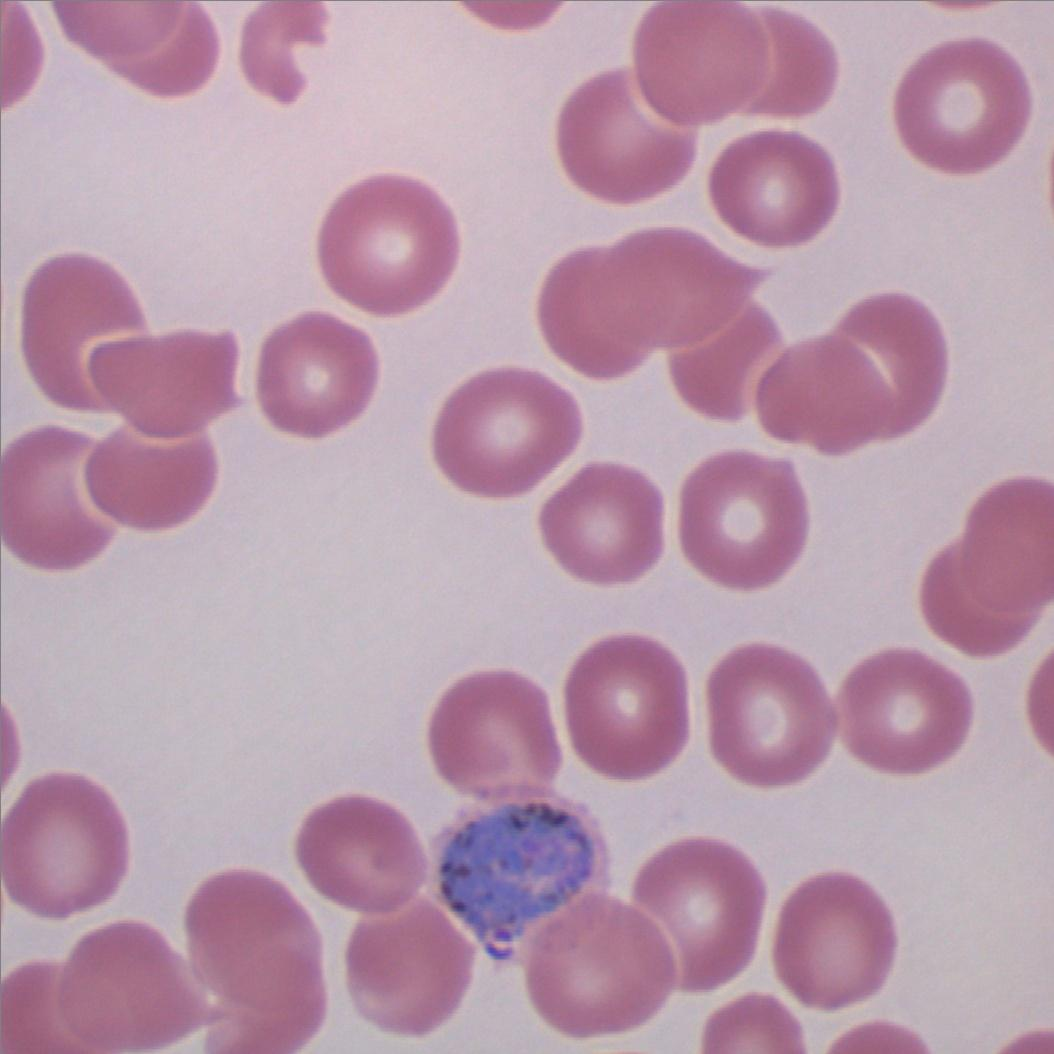Infected: (432, 798, 622, 961)
Uninfected: (757, 292, 946, 454), (182, 871, 327, 1052), (590, 228, 779, 355), (923, 476, 1054, 655), (20, 251, 149, 418), (314, 173, 459, 320), (525, 895, 676, 1034), (54, 922, 214, 1051), (632, 837, 762, 989), (0, 774, 129, 920), (437, 368, 584, 495), (703, 643, 834, 785), (557, 71, 695, 204), (563, 635, 689, 779), (894, 38, 1030, 171), (677, 451, 808, 588), (634, 1, 776, 126), (343, 900, 471, 1038), (85, 329, 243, 436), (0, 426, 118, 568), (51, 2, 223, 99), (772, 873, 893, 1010), (426, 672, 559, 795), (839, 648, 966, 773), (295, 795, 428, 913), (539, 462, 664, 586), (85, 420, 222, 531), (709, 131, 839, 246), (257, 321, 379, 434), (734, 6, 839, 118), (240, 2, 328, 102), (2, 963, 91, 1054)
